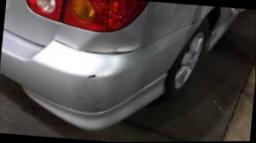Bumper: (19, 20, 197, 128)
Fender: (51, 1, 201, 52)
